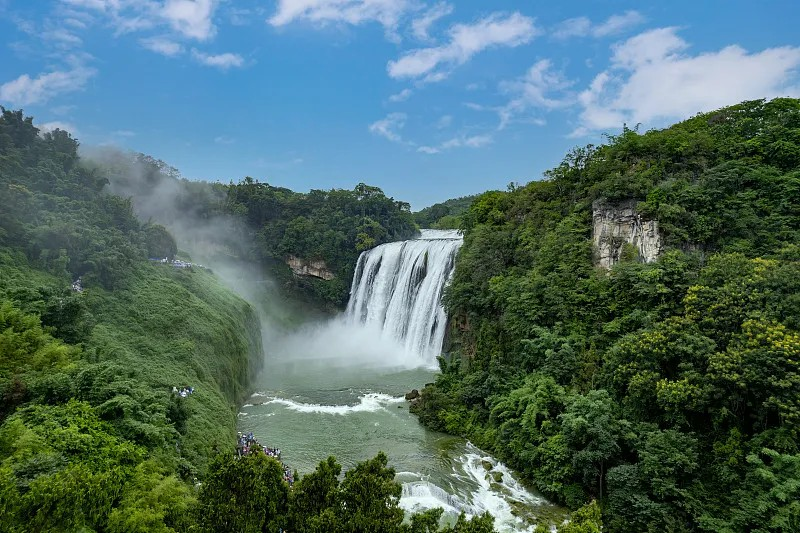Huangguoshu: (345, 228, 463, 367)
